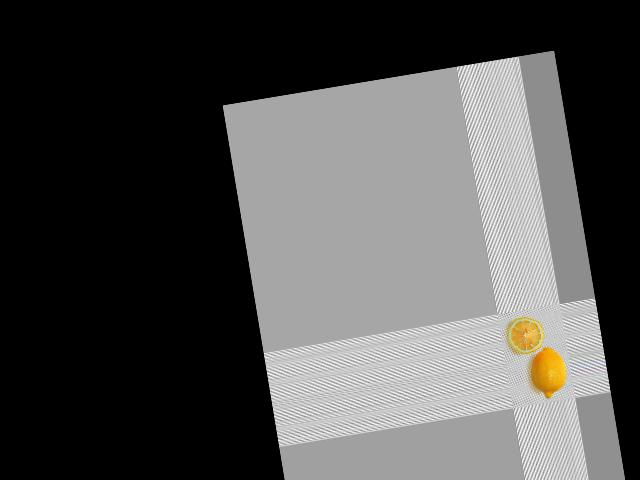lemon: (528, 338, 573, 399)
